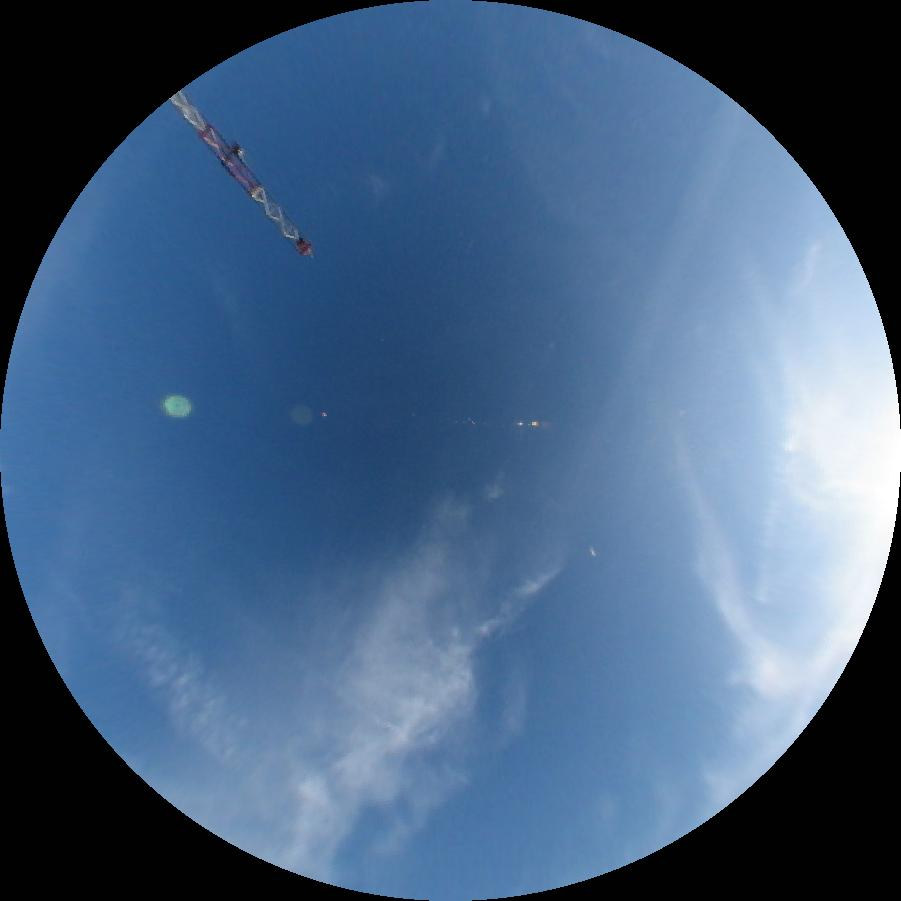contrail old: (302, 659, 473, 787)
